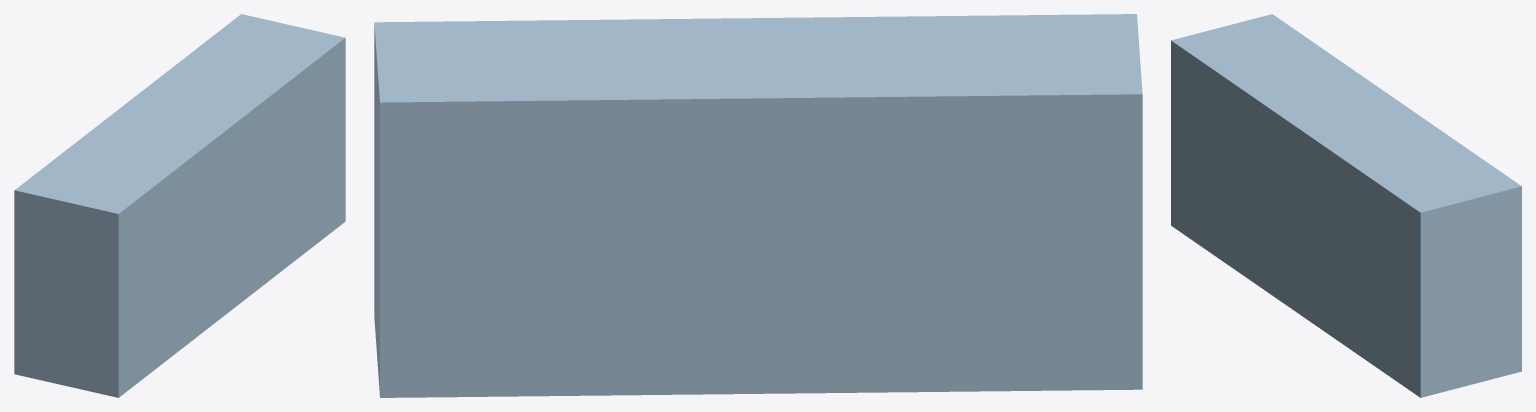
Rendered from osm_way_225265337.glb.
3 renders of one model, left to right at view 1: azimuth 30°, elevation 25°; view 2: azimuth 150°, elevation 25°; view 3: azimuth 270°, elevation 25°, orthographic. The views are drawn at different scales.
Parts seen in each view (by area): view 1: osm_way_225265337; view 2: osm_way_225265337; view 3: osm_way_225265337.
Boxes of the visible parts, bbox=[...] form: osm_way_225265337: bbox=[14, 14, 345, 397]; osm_way_225265337: bbox=[374, 14, 1142, 397]; osm_way_225265337: bbox=[1171, 14, 1521, 397].
Bounding box in the file's own units: 44.2 × 19.2 × 32.97.
